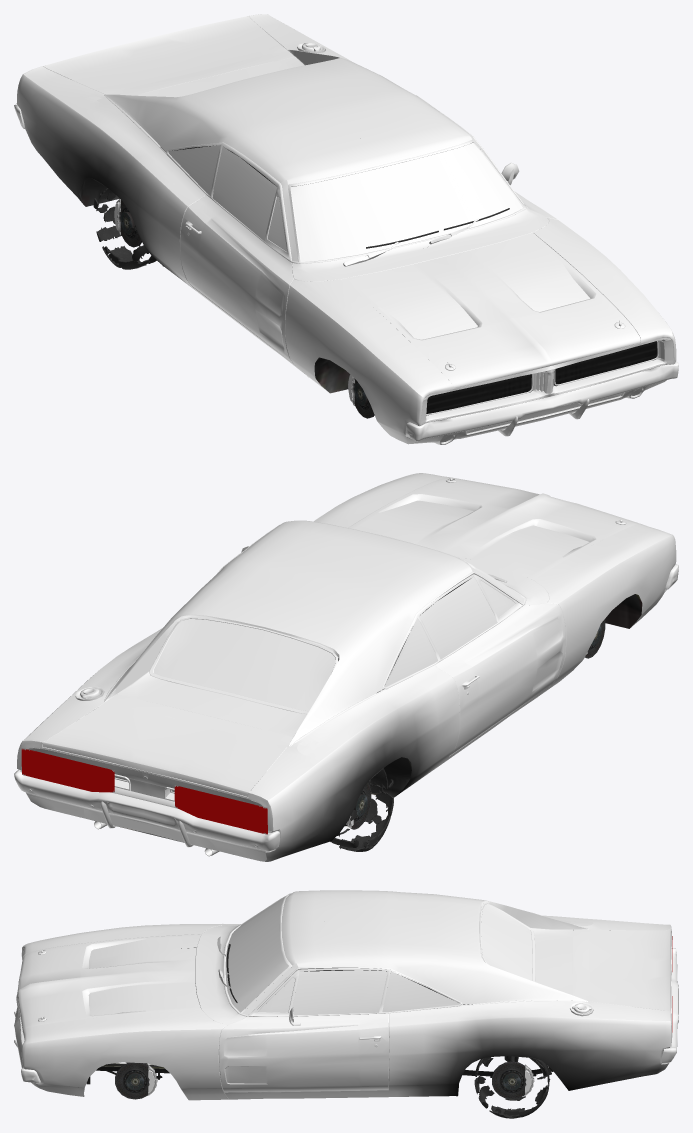
File: 04_Charger.fbx
3 renders of one model, top to bottom at view 1: azimuth 30°, elevation 25°; view 2: azimuth 150°, elevation 25°; view 3: azimuth 270°, elevation 25°, orthographic. The views are drawn at different scales.
Visible parts, largest first — view 1: Body_Duco, Kit_00_Duco, Body_Glass, Body_Chrome, Body_Matte, Body_Glossy; view 2: Body_Duco, Kit_00_Duco, Body_Glass, Body_Chrome, BrakeLights, Body_Matte; view 3: Body_Duco, Kit_00_Duco, Body_Glass, Body_Chrome, Rotor (×2), Body_Matte.
Boxes of the visible parts, left/top/right/bottom form: Body_Duco: left=16, top=14, right=676, bottom=444; Kit_00_Duco: left=292, top=206, right=640, bottom=388; Body_Glass: left=168, top=143, right=522, bottom=261; Body_Chrome: left=14, top=42, right=678, bottom=441; Body_Matte: left=79, top=145, right=657, bottom=415; Body_Glossy: left=420, top=337, right=673, bottom=425; Body_Duco: left=17, top=473, right=676, bottom=861; Kit_00_Duco: left=349, top=477, right=639, bottom=605; Body_Glass: left=153, top=577, right=515, bottom=711; Body_Chrome: left=14, top=478, right=678, bottom=856; BrakeLights: left=21, top=748, right=267, bottom=834; Body_Matte: left=117, top=579, right=642, bottom=842; Body_Duco: left=21, top=890, right=672, bottom=1100; Kit_00_Duco: left=18, top=925, right=246, bottom=1030; Body_Glass: left=225, top=897, right=531, bottom=1015; Body_Chrome: left=14, top=893, right=678, bottom=1083; Rotor (×2): left=115, top=1061, right=531, bottom=1099; Body_Matte: left=86, top=944, right=552, bottom=1096.
Size of what is drawn, in the model's own units: 2.09 by 1.3 by 5.27.
